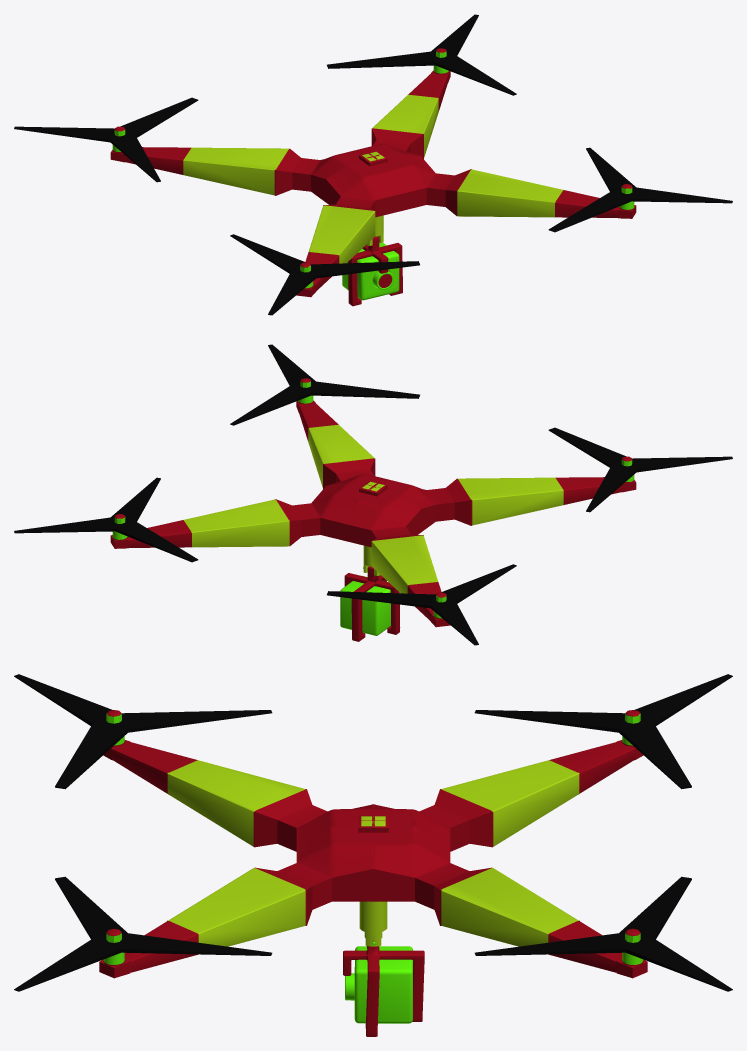
Rendered from drone.obj.
The picture shows the model from 3 angles, top to bottom: view 1: azimuth 30°, elevation 25°; view 2: azimuth 150°, elevation 25°; view 3: azimuth 270°, elevation 25°; orthographic projection. The views are drawn at different scales.
Visible parts, largest first — view 1: main_Cube, blad_Circle.001, camara_Cube.002, locetion_controler_Cube.001; view 2: main_Cube, blad_Circle.001, camara_Cube.002, locetion_controler_Cube.001; view 3: main_Cube, blad_Circle.001, camara_Cube.002, locetion_controler_Cube.001, rotetion_controler_Cylinder.
Boxes of the visible parts, x1,y1,x2,y2 form: main_Cube: (110,48,636,297); blad_Circle.001: (14,14,732,315); camara_Cube.002: (342,242,399,300); locetion_controler_Cube.001: (348,236,402,306); main_Cube: (110,378,636,627); blad_Circle.001: (14,344,732,645); camara_Cube.002: (340,575,390,635); locetion_controler_Cube.001: (344,566,400,641); main_Cube: (99,710,647,978); blad_Circle.001: (14,674,732,991); camara_Cube.002: (345,946,413,1023); locetion_controler_Cube.001: (343,946,424,1036); rotetion_controler_Cylinder: (359,901,387,946).
Size of the model in its own units: 9.8 by 2.86 by 9.39.
